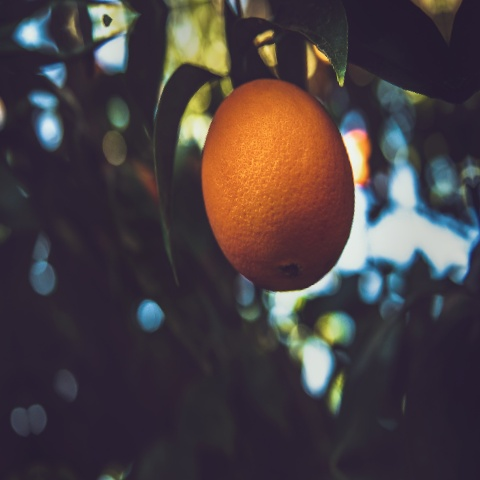orange: (169, 57, 403, 314)
